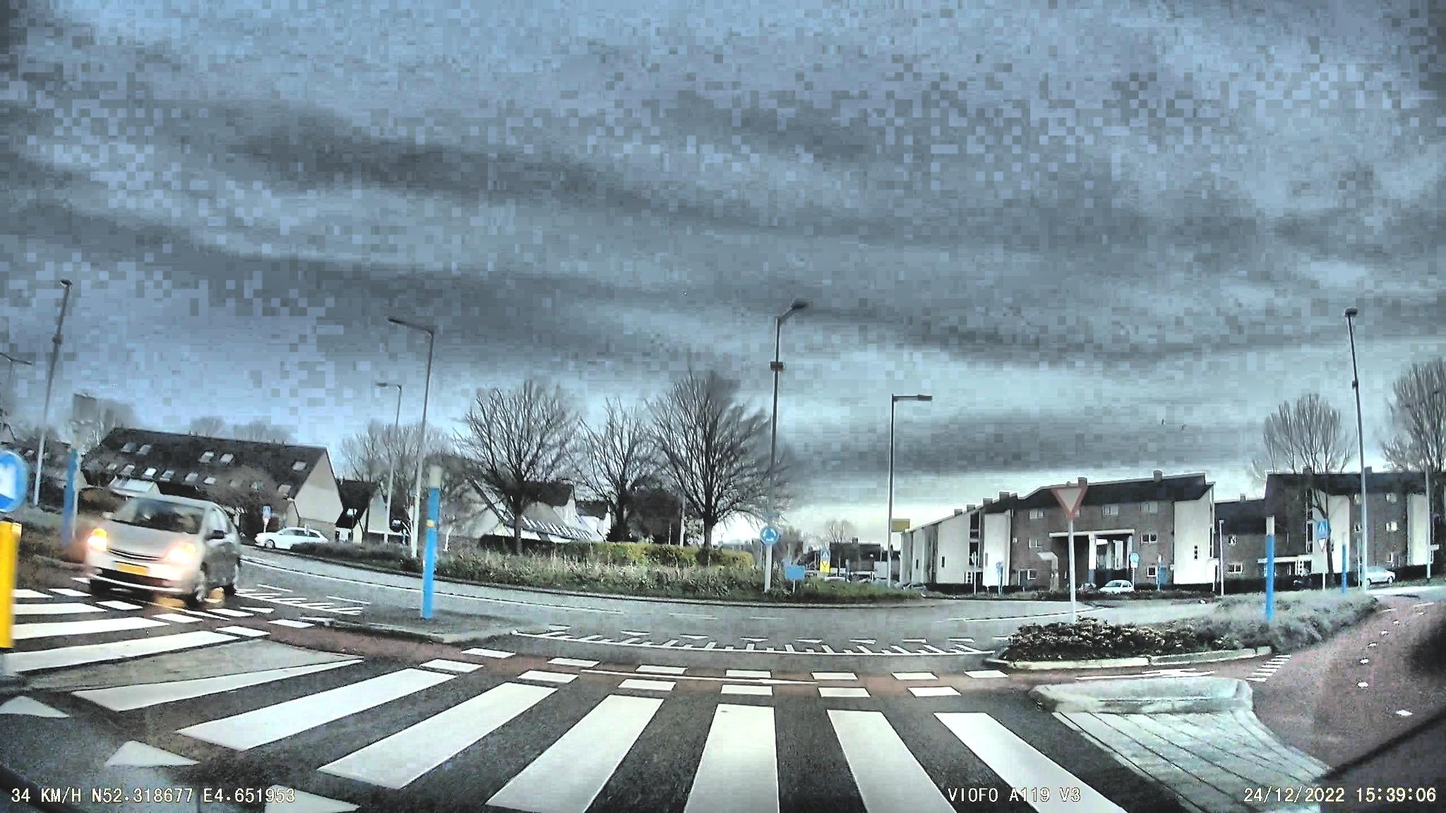Roads: (0, 592, 1130, 813)
